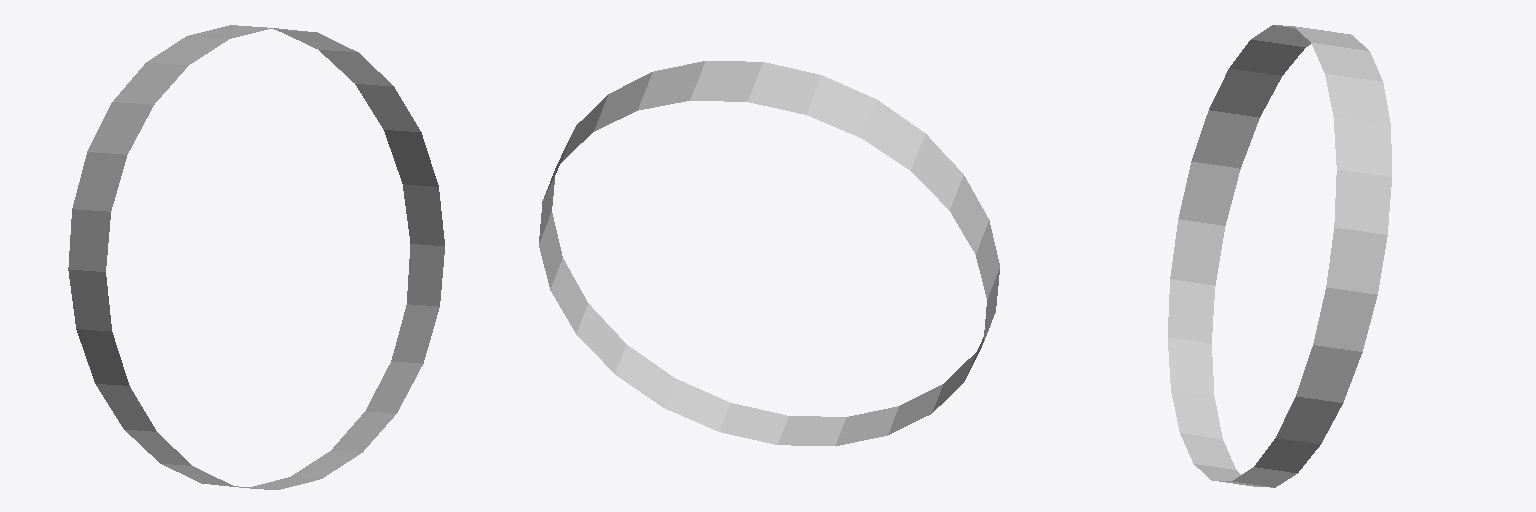
The model's file is original-32.obj.
3 renders of one model, left to right at view 1: azimuth 30°, elevation 25°; view 2: azimuth 150°, elevation 25°; view 3: azimuth 270°, elevation 25°, orthographic.
Visible parts, largest first — view 1: #ID159; view 2: #ID159; view 3: #ID159.
Part boxes in pixels (x1,y1,x2,y2): #ID159: (68,25,444,489); #ID159: (539,61,999,445); #ID159: (1168,25,1391,487).
Size of the model in its own units: 0.0261 by 0.026 by 0.0127.